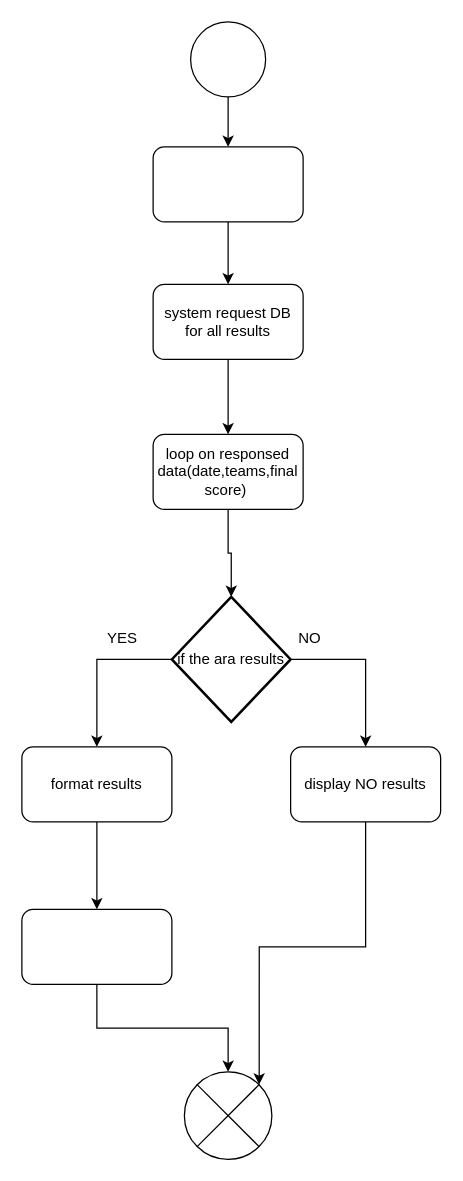
Some shapes in this 463 by 1181 pixel diagram are drawn without their labels. Here are the shapes that lost their labels. From the top down, the centre of each, then its label:
the point at 227,184: click ALL results
the point at 96,946: display formated results
